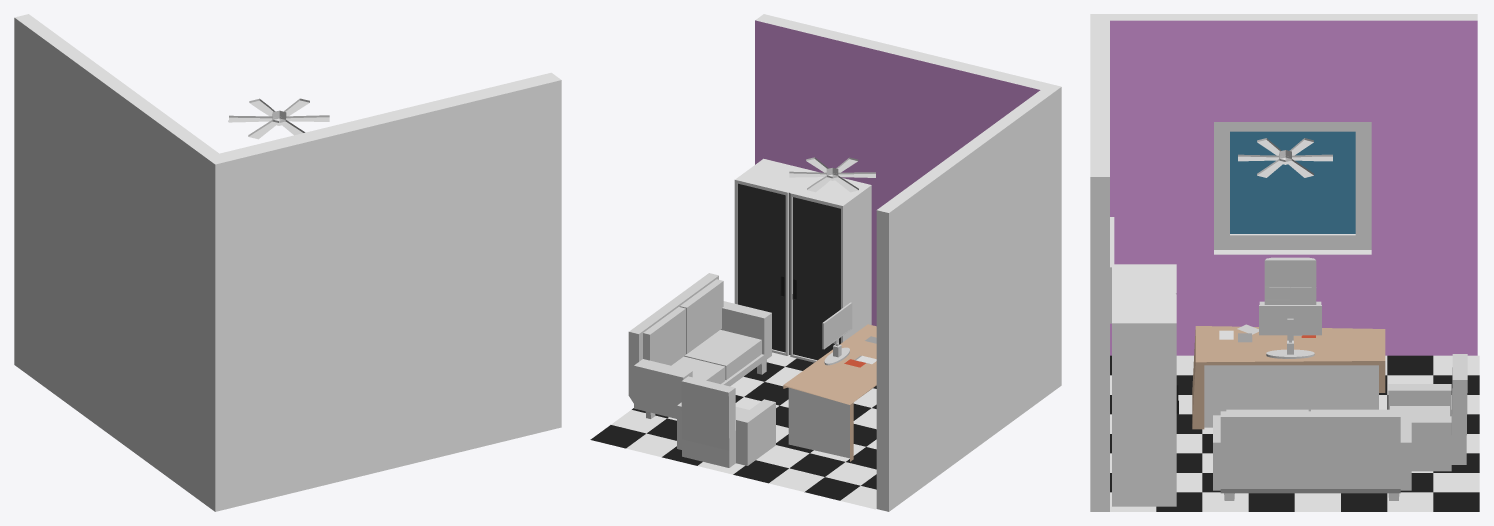
The model's file is office.gltf.
3 renders of one model, left to right at view 1: azimuth 30°, elevation 25°; view 2: azimuth 150°, elevation 25°; view 3: azimuth 270°, elevation 25°, orthographic. The views are drawn at different scales.
Visible parts, largest first — view 1: Cube, Plane.001; view 2: Cube, Cube.001, Cube.004, Cube.002, Cube.010, Plane.001, Cylinder; view 3: Cube, Cube.004, Cube.001, Cube.002, Cube.010, Cube.003, Cylinder, Plane.001.
Boxes of the visible parts, x1,y1,x2,y2 form: Cube: (14,14,561,511); Plane.001: (228,98,329,139); Cube: (590,14,1061,511); Cube.001: (734,158,871,362); Cube.004: (628,273,771,418); Cube.002: (783,324,876,461); Cube.010: (677,376,775,467); Plane.001: (789,157,875,192); Cylinder: (822,302,852,365); Cube: (1090,14,1479,511); Cube.004: (1213,409,1411,493); Cube.001: (1112,264,1178,506); Cube.002: (1192,324,1385,429); Cube.010: (1388,354,1467,471); Cube.003: (1259,257,1321,304); Cylinder: (1259,305,1321,358); Plane.001: (1238,138,1332,177).
Size of the model in its own units: 2.09 by 2.01 by 2.11.
4 materials, 4 textured.
